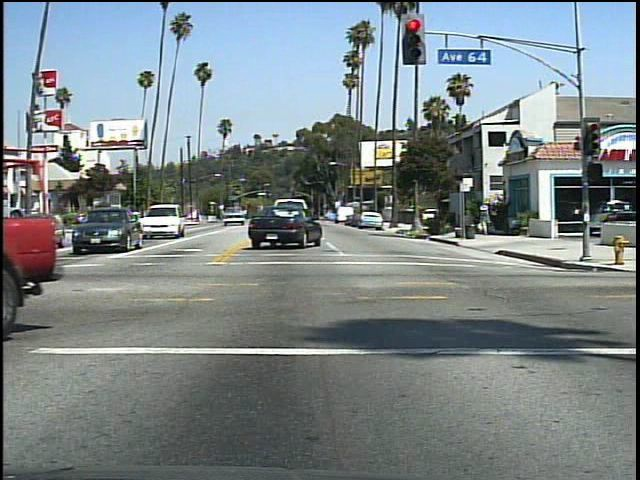person: (476, 199, 496, 237)
